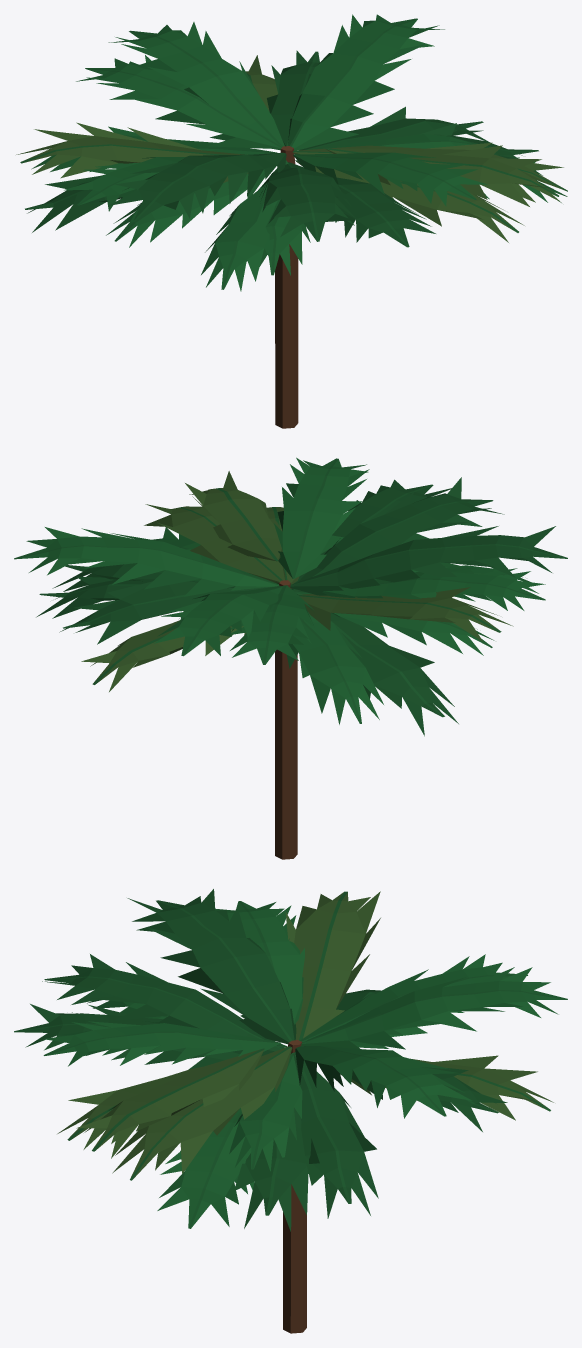
Rendered from tree1.fbx.
3 views of the same model, one above another, from view 1: azimuth 30°, elevation 25°; view 2: azimuth 150°, elevation 25°; view 3: azimuth 270°, elevation 25° (orthographic). The views are drawn at different scales.
Parts seen in each view (by area): view 1: tree1; view 2: tree1; view 3: tree1.
Part boxes in pixels (x1,y1,x2,y2): tree1: (16,14,567,428); tree1: (14,457,567,859); tree1: (14,889,567,1333).
Bounding box in the file's own units: 495 × 314 × 473.
